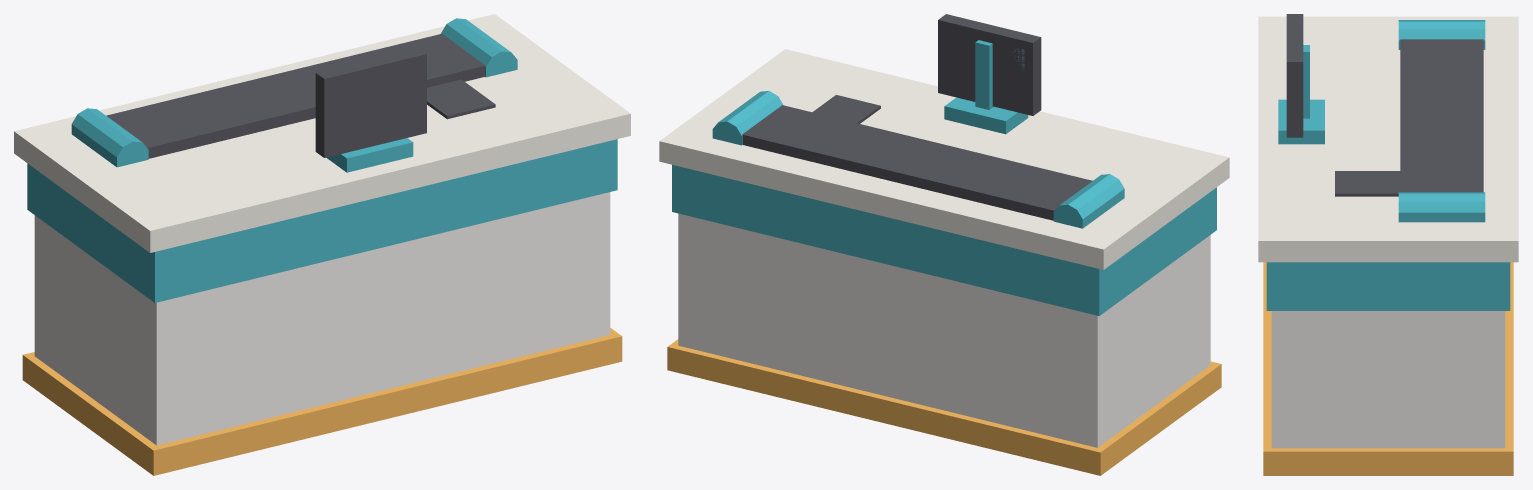
Rendered from checkout_counter.fbx.
The picture shows the model from 3 angles, left to right: view 1: azimuth 30°, elevation 25°; view 2: azimuth 150°, elevation 25°; view 3: azimuth 270°, elevation 25°; orthographic projection. The views are drawn at different scales.
Visible parts, largest first — view 1: CounterBody, Countertop, CounterBand, CounterBase, Belt, MonScreen, BeltRollerL, BeltRollerR, Scanner, MonBase; view 2: CounterBody, Countertop, CounterBand, CounterBase, Belt, MonScreen, BeltRollerL, BeltRollerR, MonBase, MonPole, Scanner; view 3: Countertop, CounterBody, Belt, CounterBand, CounterBase, BeltRollerR, MonScreen, BeltRollerL, Scanner, MonBase, MonPole.
Boxes of the visible parts, x1,y1,x2,y2 form: CounterBody: [34, 192, 610, 445]; Countertop: [14, 14, 630, 252]; CounterBand: [27, 139, 617, 302]; CounterBase: [22, 328, 622, 475]; Belt: [106, 33, 485, 158]; MonScreen: [315, 47, 426, 157]; BeltRollerL: [71, 108, 148, 167]; BeltRollerR: [441, 18, 517, 77]; Scanner: [427, 79, 495, 119]; MonBase: [326, 138, 413, 172]; CounterBody: [678, 213, 1210, 447]; Countertop: [659, 49, 1229, 269]; CounterBand: [672, 165, 1216, 315]; CounterBase: [667, 339, 1221, 475]; Belt: [742, 105, 1092, 220]; MonScreen: [938, 14, 1041, 115]; BeltRollerL: [1053, 174, 1124, 228]; BeltRollerR: [712, 91, 783, 145]; MonBase: [944, 97, 1028, 134]; MonPole: [975, 40, 993, 109]; Scanner: [812, 95, 880, 123]; Countertop: [1258, 16, 1518, 262]; CounterBody: [1271, 311, 1505, 448]; Belt: [1400, 39, 1483, 192]; CounterBand: [1266, 262, 1510, 310]; CounterBase: [1263, 262, 1513, 475]; BeltRollerR: [1398, 192, 1485, 222]; MonScreen: [1286, 14, 1303, 137]; BeltRollerL: [1398, 20, 1485, 49]; Scanner: [1335, 171, 1400, 196]; MonBase: [1278, 99, 1324, 144]; MonPole: [1303, 45, 1309, 118].
Size of the model in its own units: 318 by 217 by 156.
